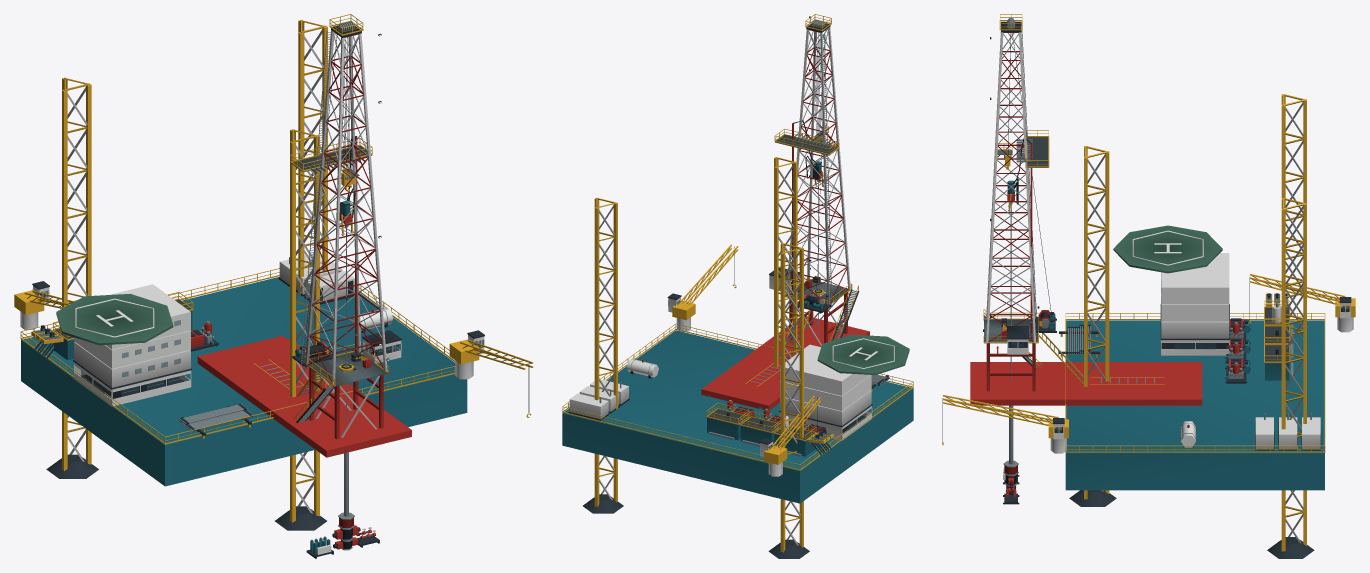
File: jackup_lodl.glb
The picture shows the model from 3 angles, left to right: view 1: azimuth 30°, elevation 25°; view 2: azimuth 150°, elevation 25°; view 3: azimuth 270°, elevation 25°; orthographic projection. The views are drawn at different scales.
Visible parts, largest first — view 1: hull_surface_blue, cantilever_surface_red, derrick_surface_white, accommodation_surface_white, helideck_surface_green, leg_0_-12_surface_yellow, leg_-18_-41_surface_yellow, derrick_surface_red, leg_18_-41_surface_yellow, deck_handrails_surface_yellow, generators_surface_white, substructure_surface_red (+13 smaller); view 2: hull_surface_blue, accommodation_surface_white, cantilever_surface_red, derrick_surface_white, leg_18_-41_surface_yellow, leg_-18_-41_surface_yellow, helideck_surface_green, deck_handrails_surface_yellow, leg_0_-12_surface_yellow, derrick_surface_red, generators_surface_white, mud_tanks_surface_blue (+15 smaller); view 3: hull_surface_blue, cantilever_surface_red, accommodation_surface_white, helideck_surface_green, derrick_surface_white, leg_18_-41_surface_yellow, leg_0_-12_surface_yellow, deck_handrails_surface_yellow, derrick_surface_red, generators_surface_white, leg_-18_-41_surface_yellow, deck_crane_1_surface_yellow (+13 smaller).
Part boxes in pixels (x1,y1,x2,y2): hull_surface_blue: [21, 277, 467, 486]; cantilever_surface_red: [197, 335, 411, 457]; derrick_surface_white: [305, 30, 387, 385]; accommodation_surface_white: [73, 284, 191, 406]; helideck_surface_green: [56, 293, 173, 345]; leg_0_-12_surface_yellow: [290, 129, 319, 522]; leg_-18_-41_surface_yellow: [62, 77, 91, 471]; derrick_surface_red: [307, 34, 384, 381]; leg_18_-41_surface_yellow: [298, 20, 327, 294]; deck_handrails_surface_yellow: [20, 268, 455, 444]; generators_surface_white: [279, 253, 354, 301]; substructure_surface_red: [309, 368, 383, 439]; hull_surface_blue: [562, 330, 913, 503]; accommodation_surface_white: [779, 344, 872, 440]; cantilever_surface_red: [701, 316, 869, 410]; derrick_surface_white: [786, 27, 850, 304]; leg_18_-41_surface_yellow: [594, 197, 617, 507]; leg_-18_-41_surface_yellow: [780, 243, 803, 552]; helideck_surface_green: [817, 334, 909, 374]; deck_handrails_surface_yellow: [562, 323, 913, 470]; leg_0_-12_surface_yellow: [774, 157, 797, 367]; derrick_surface_red: [789, 30, 848, 303]; generators_surface_white: [569, 379, 628, 418]; mud_tanks_surface_blue: [707, 418, 815, 456]; hull_surface_blue: [1065, 320, 1324, 490]; cantilever_surface_red: [970, 362, 1202, 405]; accommodation_surface_white: [1161, 253, 1229, 355]; helideck_surface_green: [1113, 225, 1222, 273]; derrick_surface_white: [986, 31, 1035, 343]; leg_18_-41_surface_yellow: [1281, 198, 1306, 551]; leg_0_-12_surface_yellow: [1084, 146, 1109, 499]; deck_handrails_surface_yellow: [1065, 313, 1325, 452]; derrick_surface_red: [988, 32, 1035, 341]; generators_surface_white: [1255, 417, 1320, 448]; leg_-18_-41_surface_yellow: [1281, 94, 1306, 334]; deck_crane_1_surface_yellow: [942, 395, 1068, 445].
Size of the model in its own units: 54.65 by 77.66 by 60.59.
